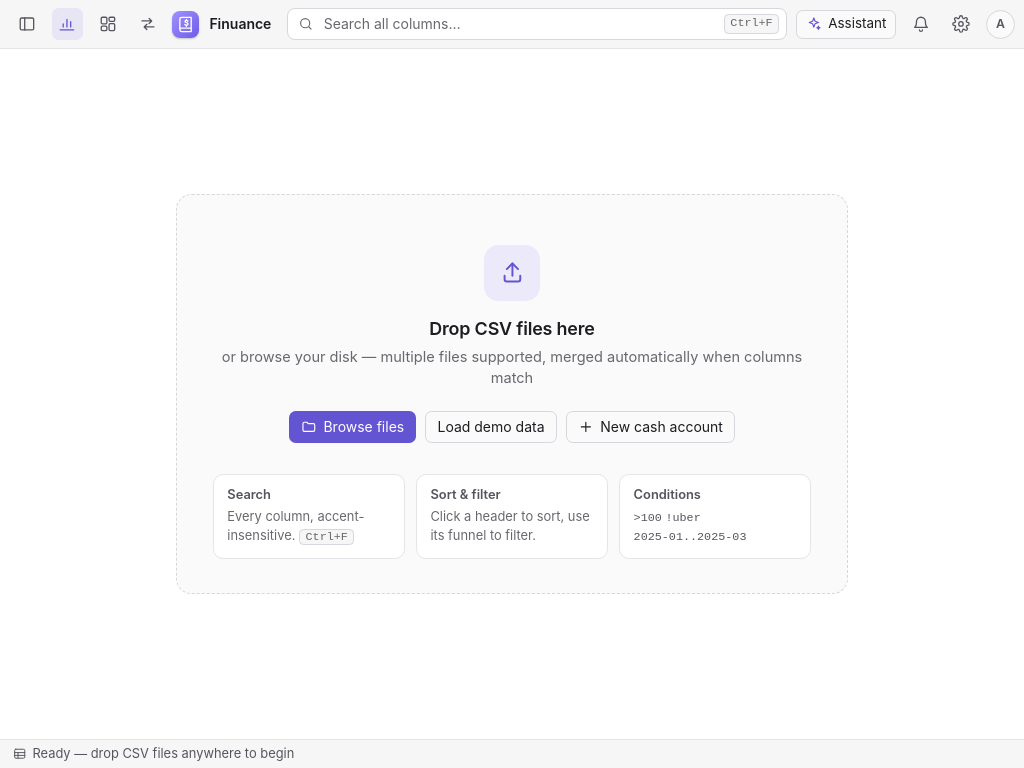
Test case: shell › explains a failed demo load
Click the button "Load demo data" at [491, 427], box [425,411,557,443]
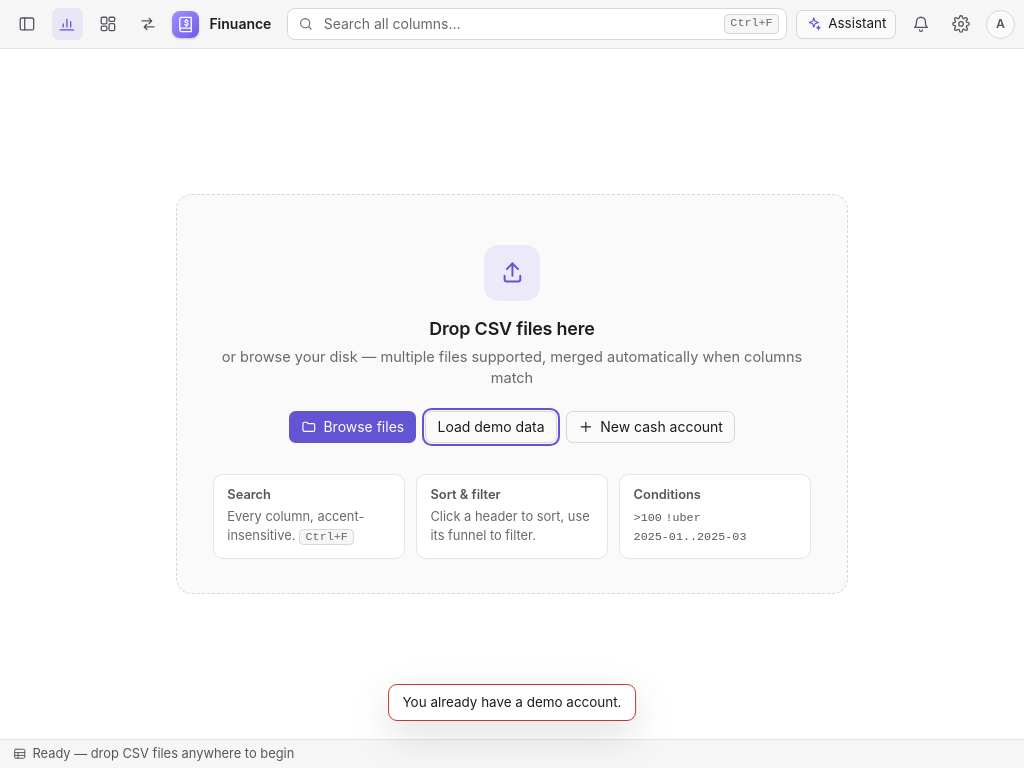
Expected: the message reads "You already have a demo account.", [402,694,622,710]
